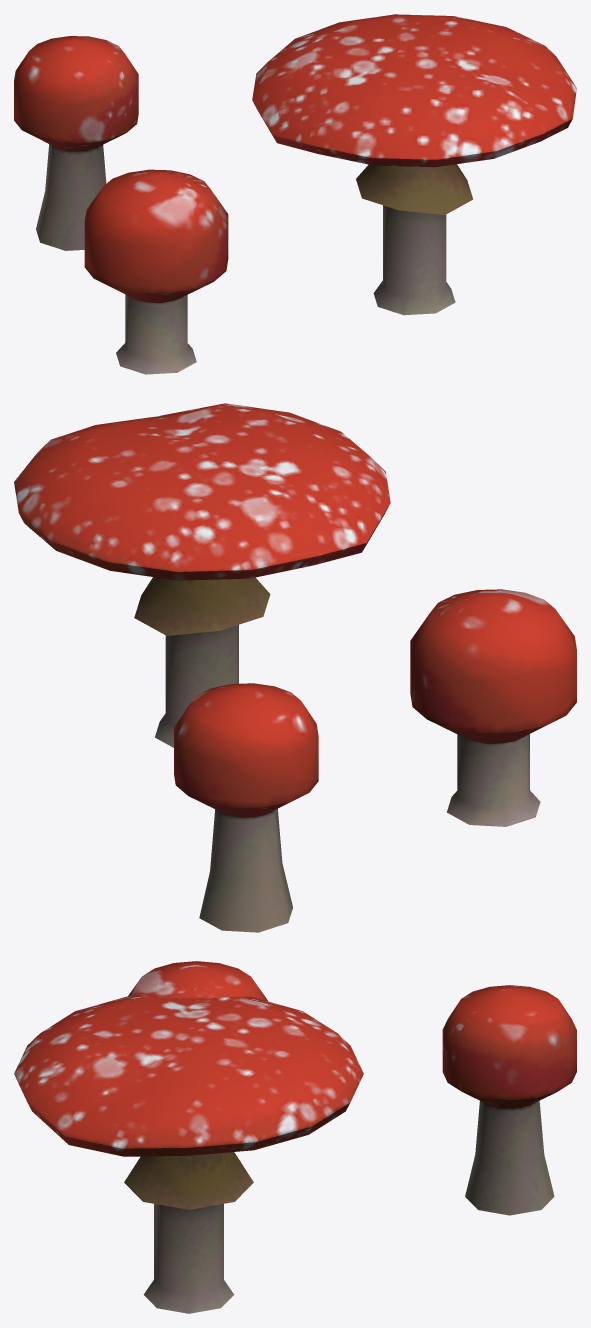
Rendered from plant_07-mushrooms1.glb.
3 renders of one model, top to bottom at view 1: azimuth 30°, elevation 25°; view 2: azimuth 150°, elevation 25°; view 3: azimuth 270°, elevation 25°, orthographic. The views are drawn at different scales.
Parts seen in each view (by area): view 1: mushrooms1.004; view 2: mushrooms1.004; view 3: mushrooms1.004.
Part boxes in pixels (bbox=[...]): mushrooms1.004: bbox=[14, 14, 576, 374]; mushrooms1.004: bbox=[14, 403, 576, 932]; mushrooms1.004: bbox=[14, 961, 576, 1313].
Bounding box in the file's own units: 0.4323 × 0.2204 × 0.4297.
1 material, 1 textured.
